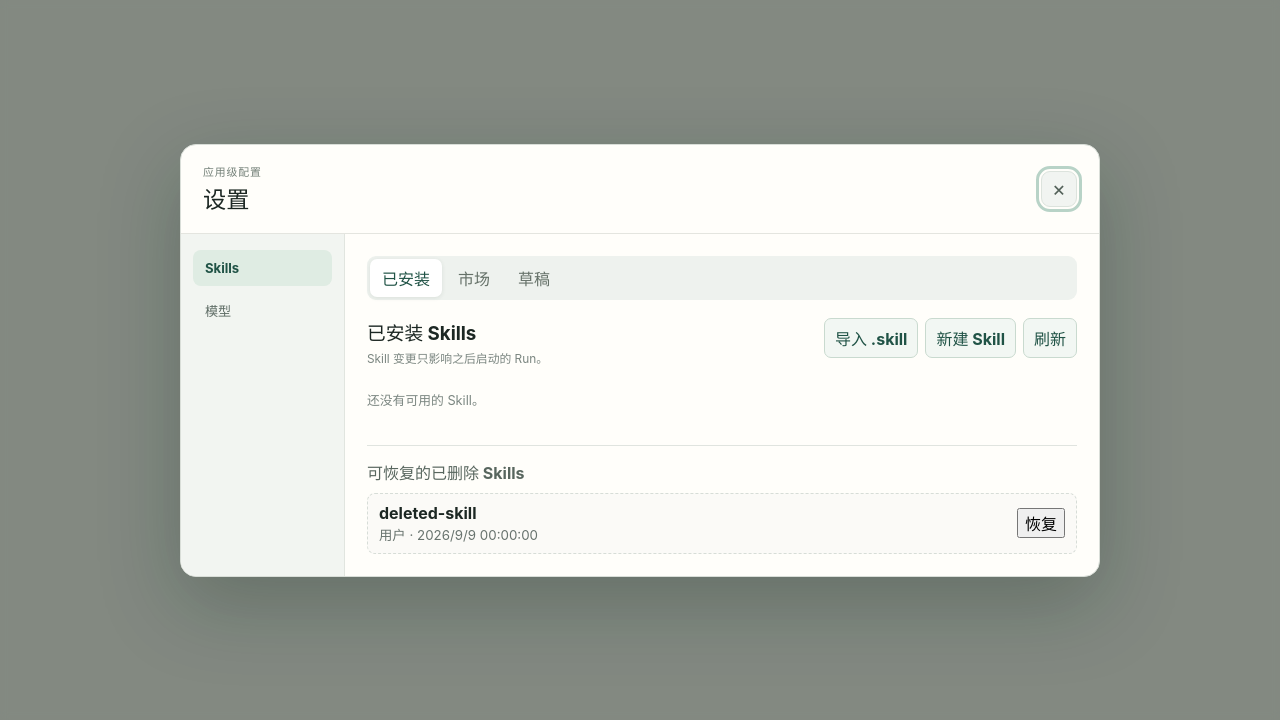
Scenario: SettingsDialog › 从保留的历史快照恢复已删除 Skill
Click the button "恢复" at (1041, 523), box x1=1017 y1=508 x2=1065 y2=538
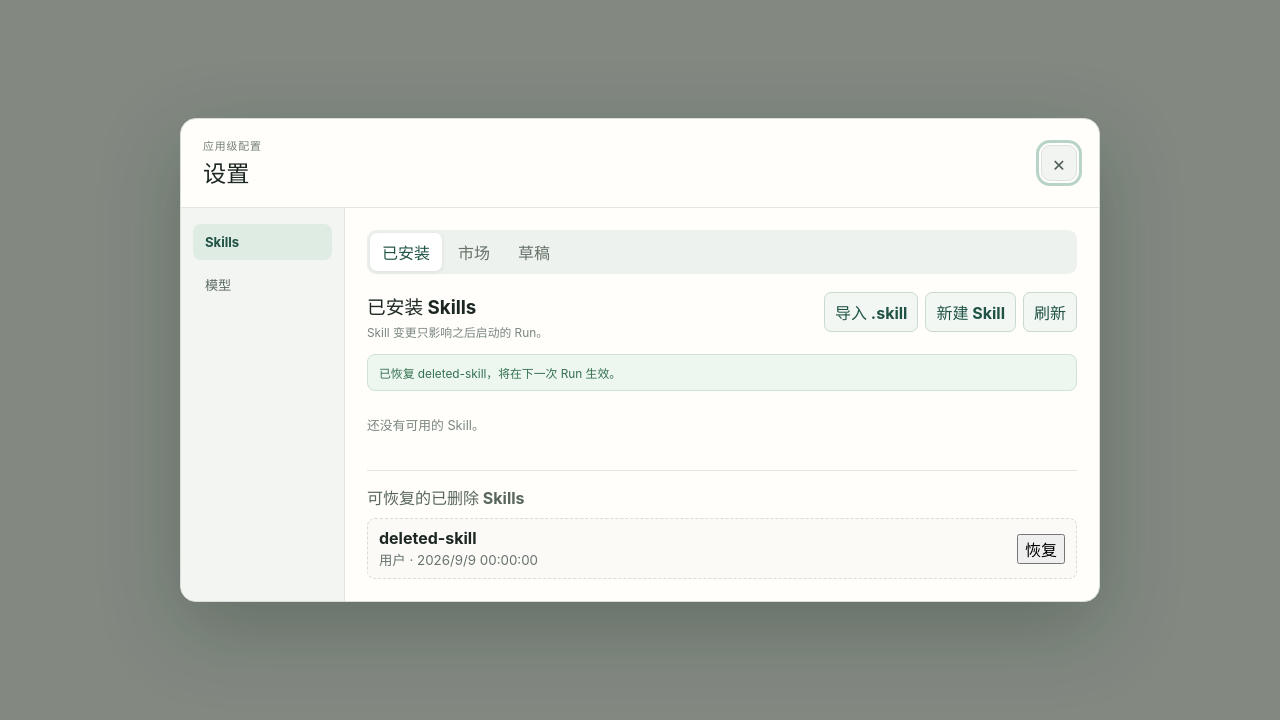
Expected: the text "已恢复 deleted-skill，将在下一次 Run 生效。" is shown, x1=367 y1=354 x2=1077 y2=391
